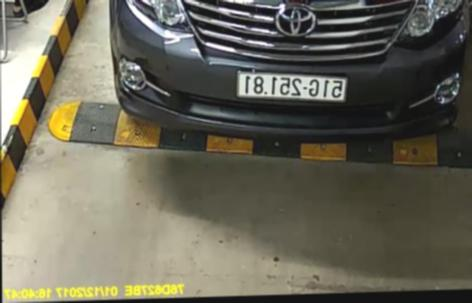License_Plate: (232, 70, 351, 106)
